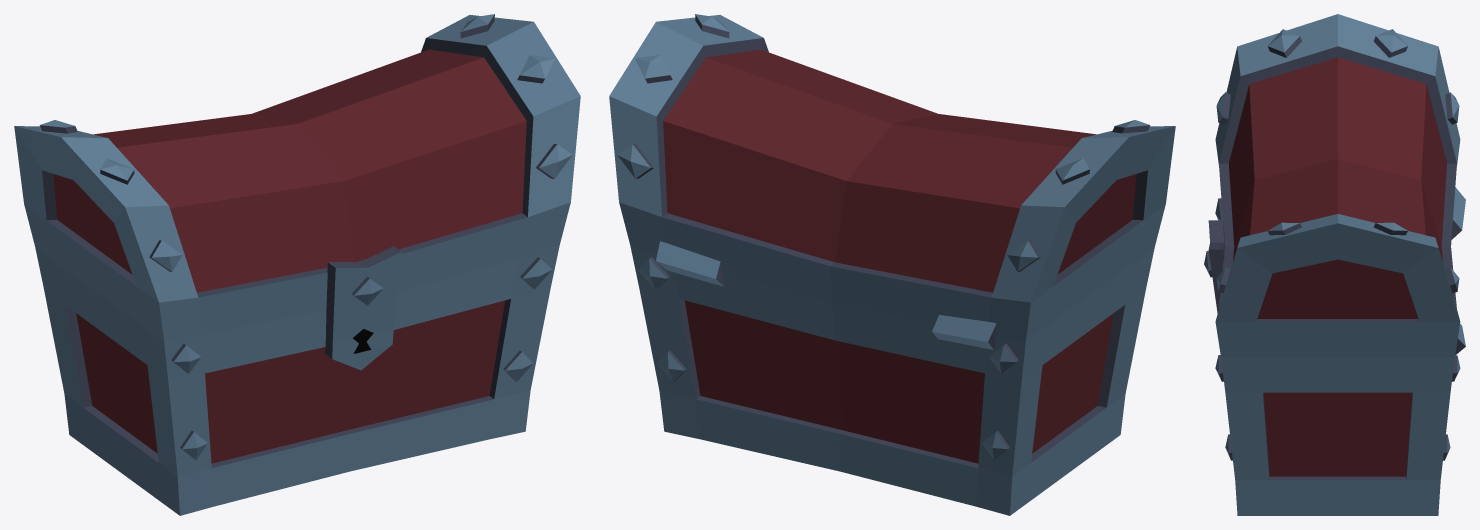
File: Mesh_TreasureChest_B_Loose_Lid.fbx
3 renders of one model, left to right at view 1: azimuth 30°, elevation 25°; view 2: azimuth 150°, elevation 25°; view 3: azimuth 270°, elevation 25°, orthographic. The views are drawn at different scales.
Parts seen in each view (by area): view 1: SM_TreasureChest_B_Lid, SM_TreasureChest_B_Base; view 2: SM_TreasureChest_B_Lid, SM_TreasureChest_B_Base; view 3: SM_TreasureChest_B_Lid, SM_TreasureChest_B_Base.
Boxes of the visible parts, left/top/right/bottom form: SM_TreasureChest_B_Lid: left=14, top=14, right=580, bottom=370; SM_TreasureChest_B_Base: left=35, top=245, right=559, bottom=515; SM_TreasureChest_B_Lid: left=609, top=14, right=1175, bottom=349; SM_TreasureChest_B_Base: left=630, top=245, right=1154, bottom=515; SM_TreasureChest_B_Lid: left=1204, top=14, right=1465, bottom=357; SM_TreasureChest_B_Base: left=1215, top=198, right=1460, bottom=515.
Bounding box in the file's own units: 1.31 × 0.9392 × 0.695.
